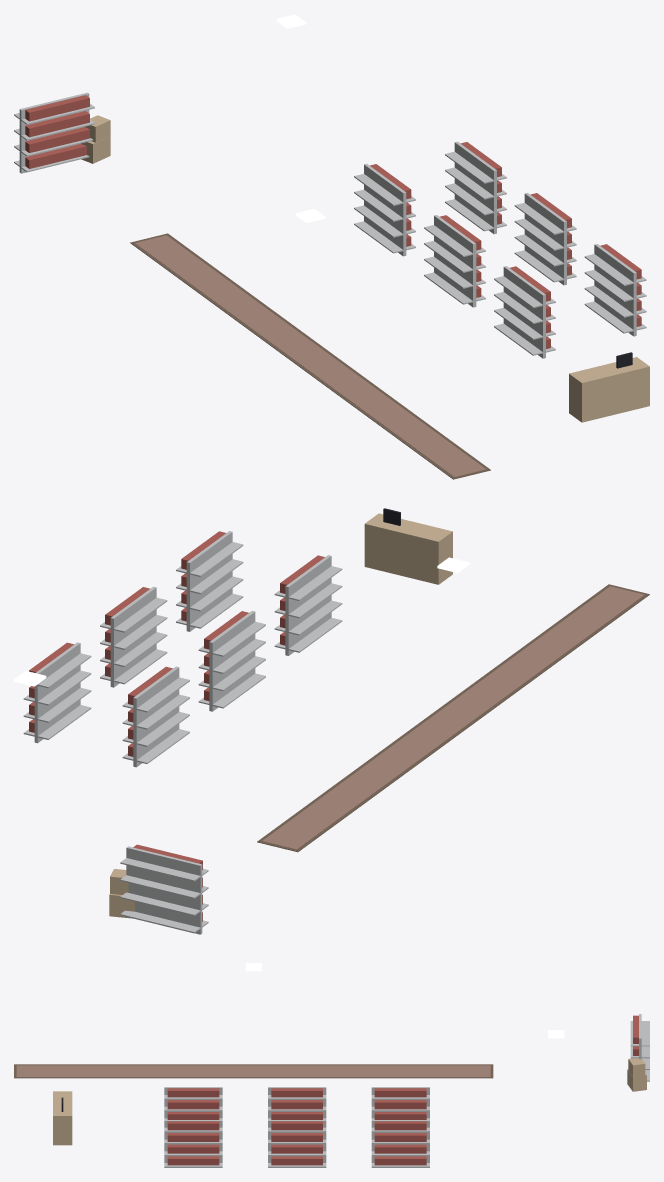
File: fine-s0.glb
3 views of the same model, one above another, from view 1: azimuth 30°, elevation 25°; view 2: azimuth 150°, elevation 25°; view 3: azimuth 270°, elevation 25° (orthographic). The views are drawn at different scales.
Visible parts, largest first — view 1: soft-s0, shelving.000, shop-counter.000, shelf.000, shelf.001, shelf.005, shelf.004, shelf.002, shelf.003, cardboard-box.000; view 2: soft-s0, shelving.000, shop-counter.000, shelf.005, shelf.004, shelf.000, shelf.002, shelf.001, shelf.003, cardboard-box.000; view 3: soft-s0, shelf.003, shelf.004, shelf.005, shelf.000, shelf.001, shelf.002, shop-counter.000, shelving.000, cardboard-box.000.
Part boxes in pixels (left/top/right/bottom): soft-s0: left=130, top=233, right=490, bottom=479; shelving.000: left=14, top=92, right=94, bottom=173; shop-counter.000: left=569, top=352, right=649, bottom=422; shelf.000: left=354, top=163, right=415, bottom=256; shelf.001: left=424, top=215, right=485, bottom=307; shelf.005: left=584, top=244, right=646, bottom=336; shelf.004: left=514, top=192, right=576, bottom=285; shelf.002: left=494, top=266, right=555, bottom=358; shelf.003: left=445, top=141, right=506, bottom=234; cardboard-box.000: left=81, top=115, right=110, bottom=163; soft-s0: left=257, top=584, right=649, bottom=852; shelving.000: left=120, top=844, right=208, bottom=934; shop-counter.000: left=364, top=508, right=452, bottom=584; shelf.005: left=176, top=531, right=243, bottom=631; shelf.004: left=100, top=586, right=167, bottom=687; shelf.000: left=122, top=666, right=189, bottom=767; shelf.002: left=274, top=555, right=342, bottom=655; shelf.001: left=198, top=610, right=265, bottom=711; shelf.003: left=23, top=642, right=91, bottom=743; cardboard-box.000: left=109, top=869, right=134, bottom=918; soft-s0: left=14, top=1064, right=493, bottom=1078; shelf.003: left=371, top=1120, right=429, bottom=1167; shelf.004: left=268, top=1120, right=326, bottom=1167; shelf.005: left=164, top=1120, right=222, bottom=1167; shelf.000: left=371, top=1087, right=429, bottom=1119; shelf.001: left=268, top=1087, right=326, bottom=1119; shelf.002: left=164, top=1087, right=222, bottom=1119; shop-counter.000: left=53, top=1091, right=72, bottom=1145; shelving.000: left=630, top=1014, right=649, bottom=1081; cardboard-box.000: left=627, top=1058, right=646, bottom=1091.
Bounding box in the file's own units: 8.07 × 3.58 × 19.65.
